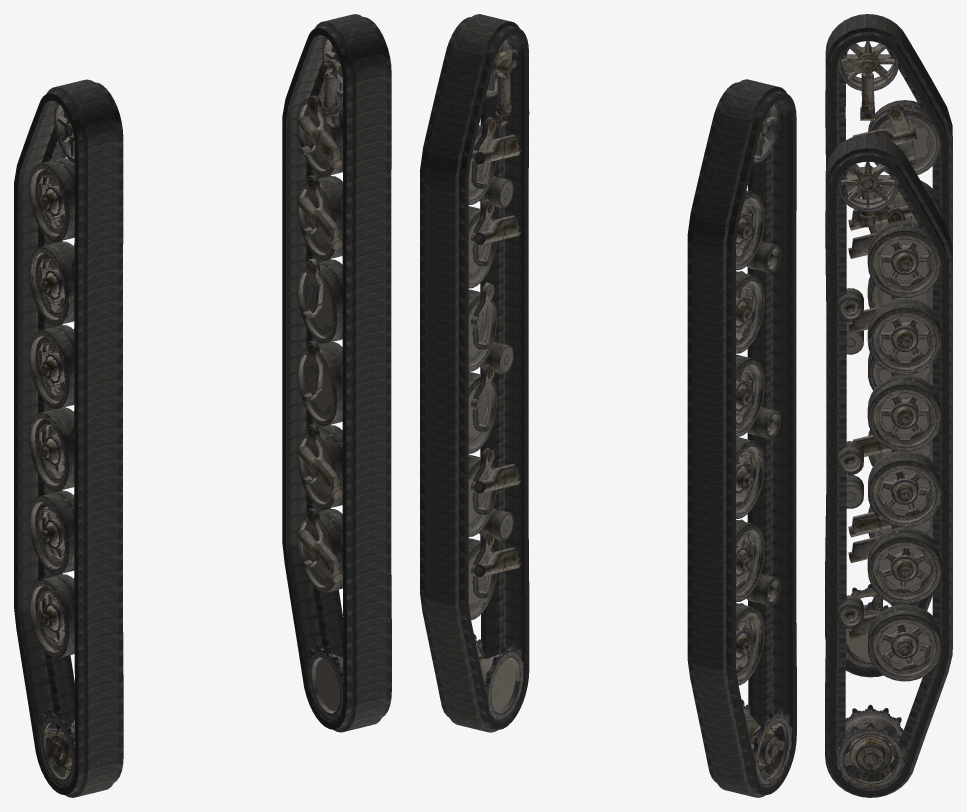
The model's file is Chassis.glb.
3 renders of one model, left to right at view 1: azimuth 30°, elevation 25°; view 2: azimuth 150°, elevation 25°; view 3: azimuth 270°, elevation 25°, orthographic. The views are drawn at different scales.
Parts seen in each view (by area): view 1: set_0_group_0, set_1_group_0, set_3_group_0, set_2_group_0; view 2: set_0_group_0, set_1_group_0, set_3_group_0, set_2_group_0; view 3: set_3_group_0, set_1_group_0, set_2_group_0, set_0_group_0.
Boxes of the visible parts, x1=… form: set_0_group_0: x1=14, y1=79, x2=123, y2=797; set_1_group_0: x1=282, y1=14, x2=391, y2=732; set_3_group_0: x1=297, y1=37, x2=343, y2=721; set_2_group_0: x1=29, y1=102, x2=74, y2=787; set_0_group_0: x1=687, y1=79, x2=796, y2=797; set_1_group_0: x1=420, y1=14, x2=529, y2=732; set_3_group_0: x1=468, y1=37, x2=524, y2=722; set_2_group_0: x1=736, y1=102, x2=792, y2=787; set_3_group_0: x1=836, y1=161, x2=941, y2=790; set_1_group_0: x1=825, y1=134, x2=952, y2=797; set_2_group_0: x1=837, y1=41, x2=941, y2=669; set_0_group_0: x1=825, y1=14, x2=952, y2=677.
Bounding box in the file's own units: 3.14 × 6.76 × 1.2.
Materials: 4 (4 with a texture image).
